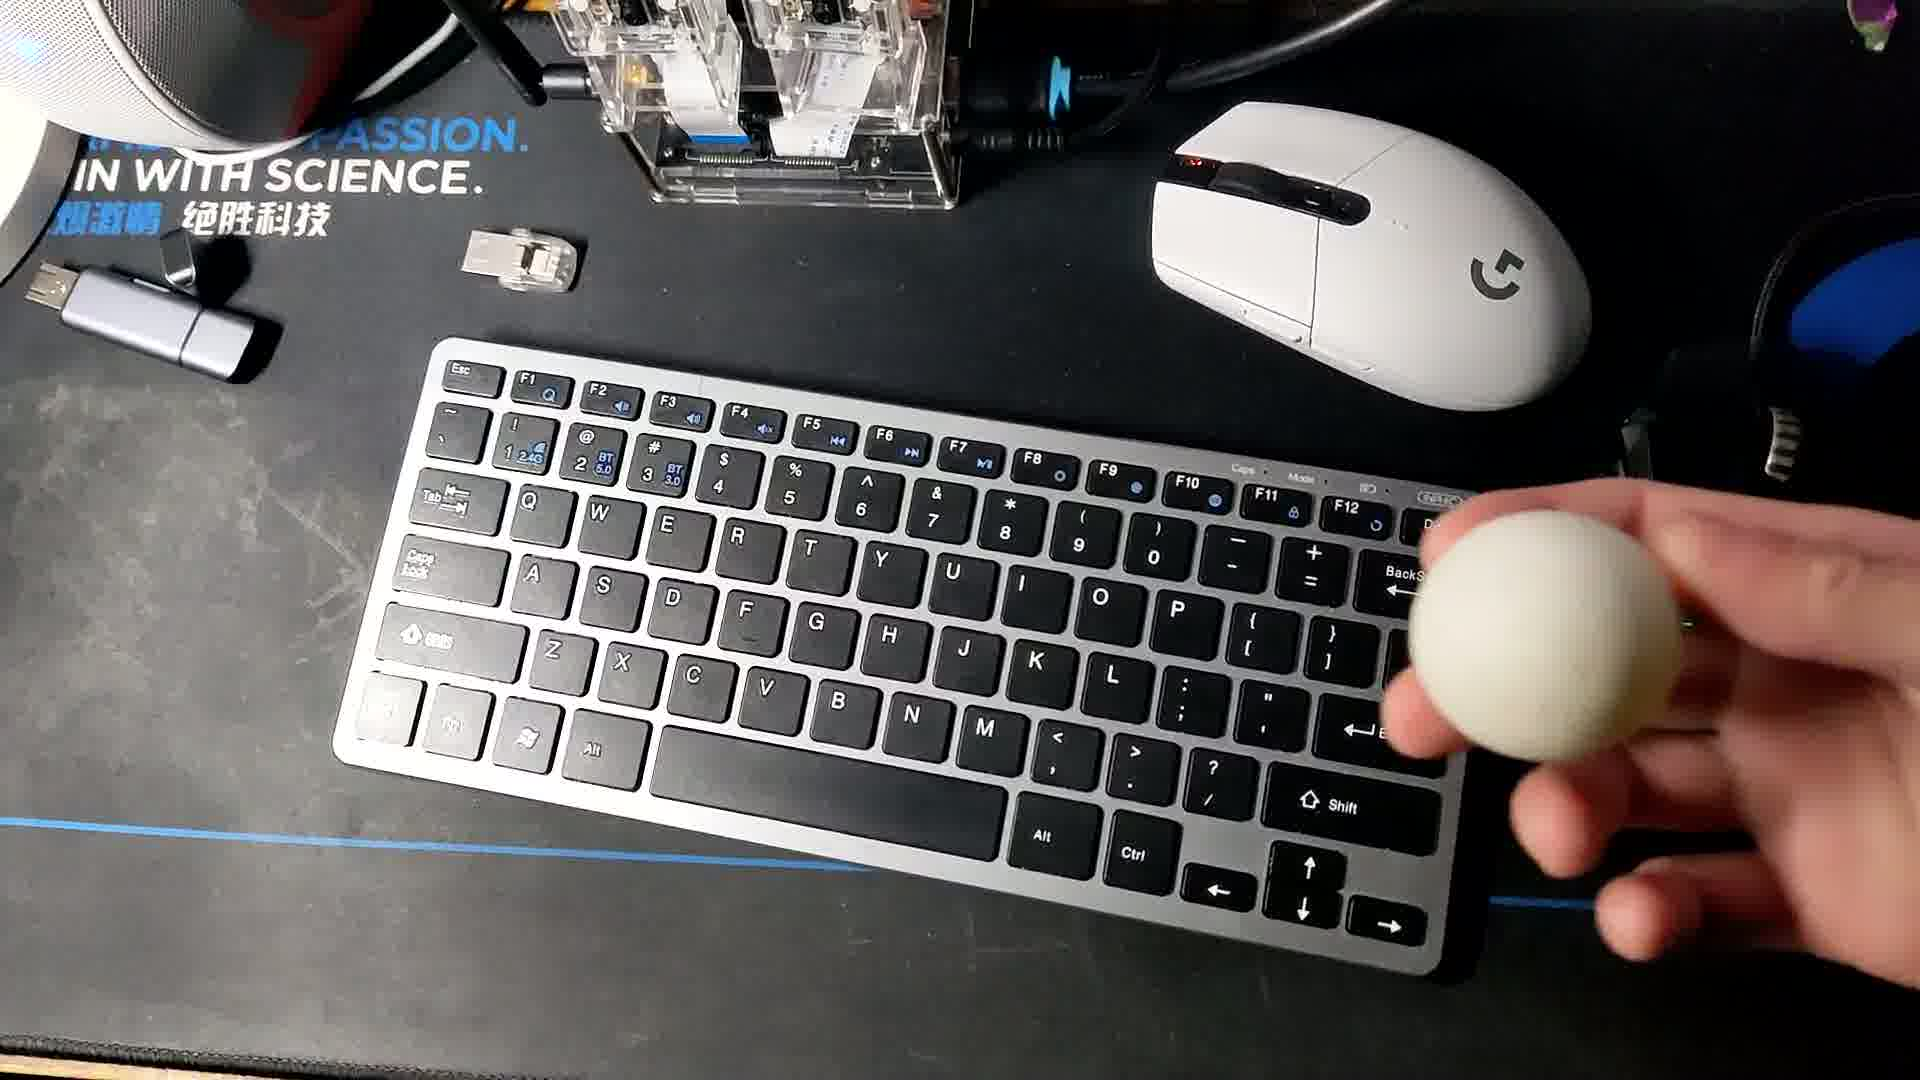Ball: (1414, 512, 1676, 756)
